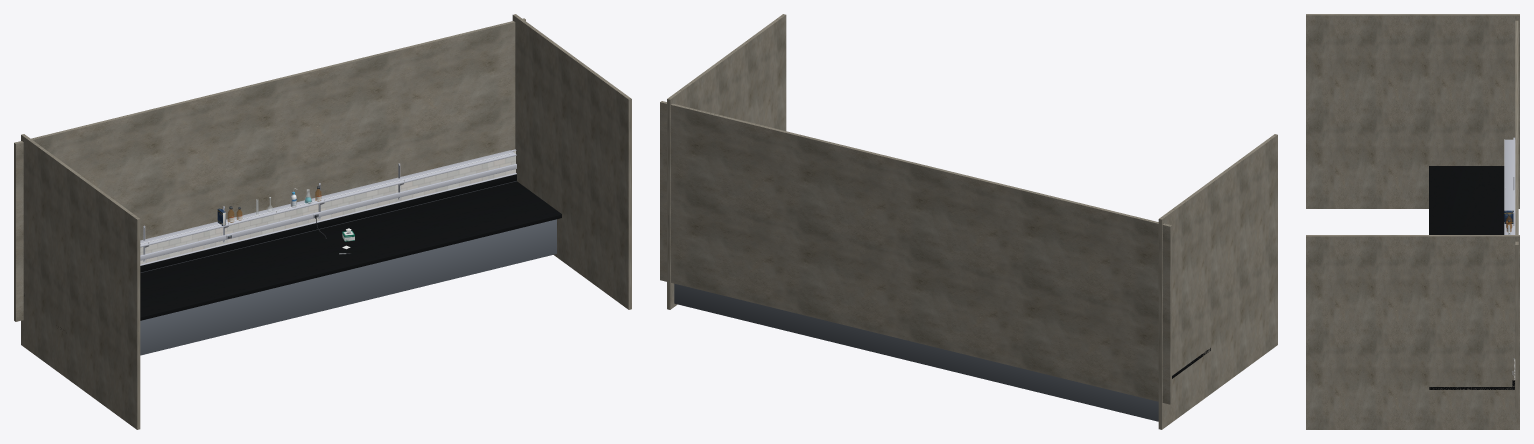
File: lab_bench.glb
The picture shows the model from 3 angles, left to right: view 1: azimuth 30°, elevation 25°; view 2: azimuth 150°, elevation 25°; view 3: azimuth 270°, elevation 25°; orthographic projection. The views are drawn at different scales.
Parts seen in each view (by area): view 1: LabBackWall, LabEnvV3_SideWall_L, LabEnvV3_SideWall_R, BenchTop, BenchCabinet, LabEnvV2_TileBacksplash, WallReagentShelf, BacksplashCurb, LabEnvV2_UtilityRaceway, BacksplashSteelTrim; view 2: LabBackWall, LabEnvV3_SideWall_L, BenchCabinet, LabEnvV3_SideWall_R; view 3: LabEnvV3_SideWall_R, LabEnvV3_SideWall_L, BenchTop, LabBackWall, WallReagentShelf.
Boxes of the visible parts, left/top/right/bottom form: LabBackWall: left=14, top=18, right=525, bottom=321; LabEnvV3_SideWall_L: left=21, top=134, right=140, bottom=429; LabEnvV3_SideWall_R: left=512, top=14, right=631, bottom=309; BenchTop: left=60, top=181, right=561, bottom=328; BenchCabinet: left=140, top=219, right=556, bottom=355; LabEnvV2_TileBacksplash: left=140, top=151, right=515, bottom=264; WallReagentShelf: left=140, top=150, right=516, bottom=247; BacksplashCurb: left=24, top=174, right=516, bottom=295; LabEnvV2_UtilityRaceway: left=140, top=163, right=516, bottom=260; BacksplashSteelTrim: left=140, top=173, right=516, bottom=265; LabBackWall: left=660, top=101, right=1171, bottom=404; LabEnvV3_SideWall_L: left=1158, top=134, right=1277, bottom=429; BenchCabinet: left=674, top=283, right=1158, bottom=421; LabEnvV3_SideWall_R: left=667, top=14, right=786, bottom=309; LabEnvV3_SideWall_R: left=1306, top=235, right=1519, bottom=429; LabEnvV3_SideWall_L: left=1306, top=14, right=1519, bottom=208; BenchTop: left=1429, top=166, right=1514, bottom=389; LabBackWall: left=1515, top=20, right=1518, bottom=408; WallReagentShelf: left=1504, top=139, right=1515, bottom=234.
Size of the model in its own units: 6.6 by 2.6 by 2.6.
Materials: 33 (12 with a texture image).
